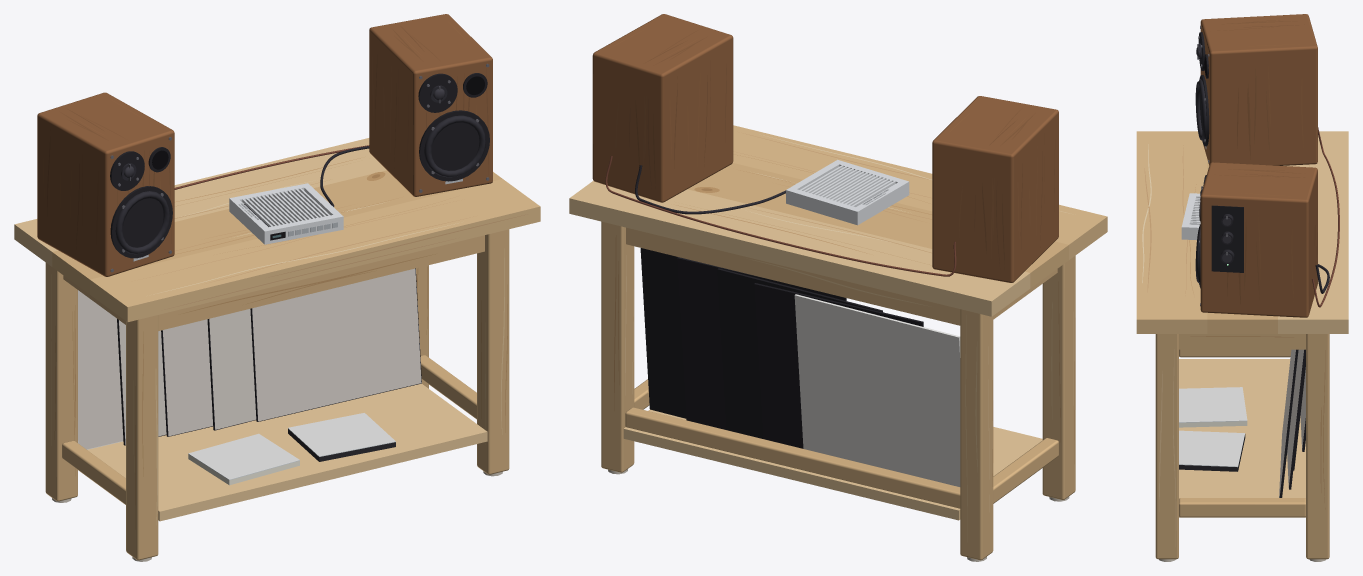
Rendered from meuble-hifi.glb.
3 views of the same model, side by side, from view 1: azimuth 30°, elevation 25°; view 2: azimuth 150°, elevation 25°; view 3: azimuth 270°, elevation 25° (orthographic). The views are drawn at different scales.
Visible parts, largest first — view 1: meuble-hifi, vinyle-chuu, vinyle-yeonjun, vinyle-sphere, objet_lecteur, vinyle-cortis, jewel-h2h, jewel-lngshot, vinyle-machine; view 2: meuble-hifi, objet_lecteur; view 3: meuble-hifi, jewel-h2h, jewel-lngshot, vinyle-cortis, objet_lecteur, vinyle-chuu, vinyle-machine.
Part boxes in pixels (x1=…): meuble-hifi: x1=14, y1=14, x2=540, y2=561; vinyle-chuu: x1=252, y1=268, x2=421, y2=421; vinyle-yeonjun: x1=78, y1=290, x2=123, y2=449; vinyle-sphere: x1=162, y1=319, x2=212, y2=436; objet_lecteur: x1=229, y1=183, x2=343, y2=244; vinyle-cortis: x1=209, y1=309, x2=256, y2=429; jewel-h2h: x1=189, y1=433, x2=299, y2=479; jewel-lngshot: x1=288, y1=413, x2=395, y2=455; vinyle-machine: x1=119, y1=320, x2=166, y2=444; meuble-hifi: x1=569, y1=14, x2=1107, y2=561; objet_lecteur: x1=786, y1=159, x2=909, y2=225; meuble-hifi: x1=1136, y1=14, x2=1348, y2=561; jewel-h2h: x1=1179, y1=387, x2=1246, y2=421; jewel-lngshot: x1=1179, y1=430, x2=1244, y2=466; vinyle-cortis: x1=1287, y1=349, x2=1303, y2=487; objet_lecteur: x1=1181, y1=193, x2=1200, y2=240; vinyle-chuu: x1=1279, y1=349, x2=1295, y2=497; vinyle-machine: x1=1300, y1=367, x2=1305, y2=450.
Bounding box in the file's own units: 0.8 × 0.7354 × 0.3804.
Materials: 55 (1 with a texture image).
